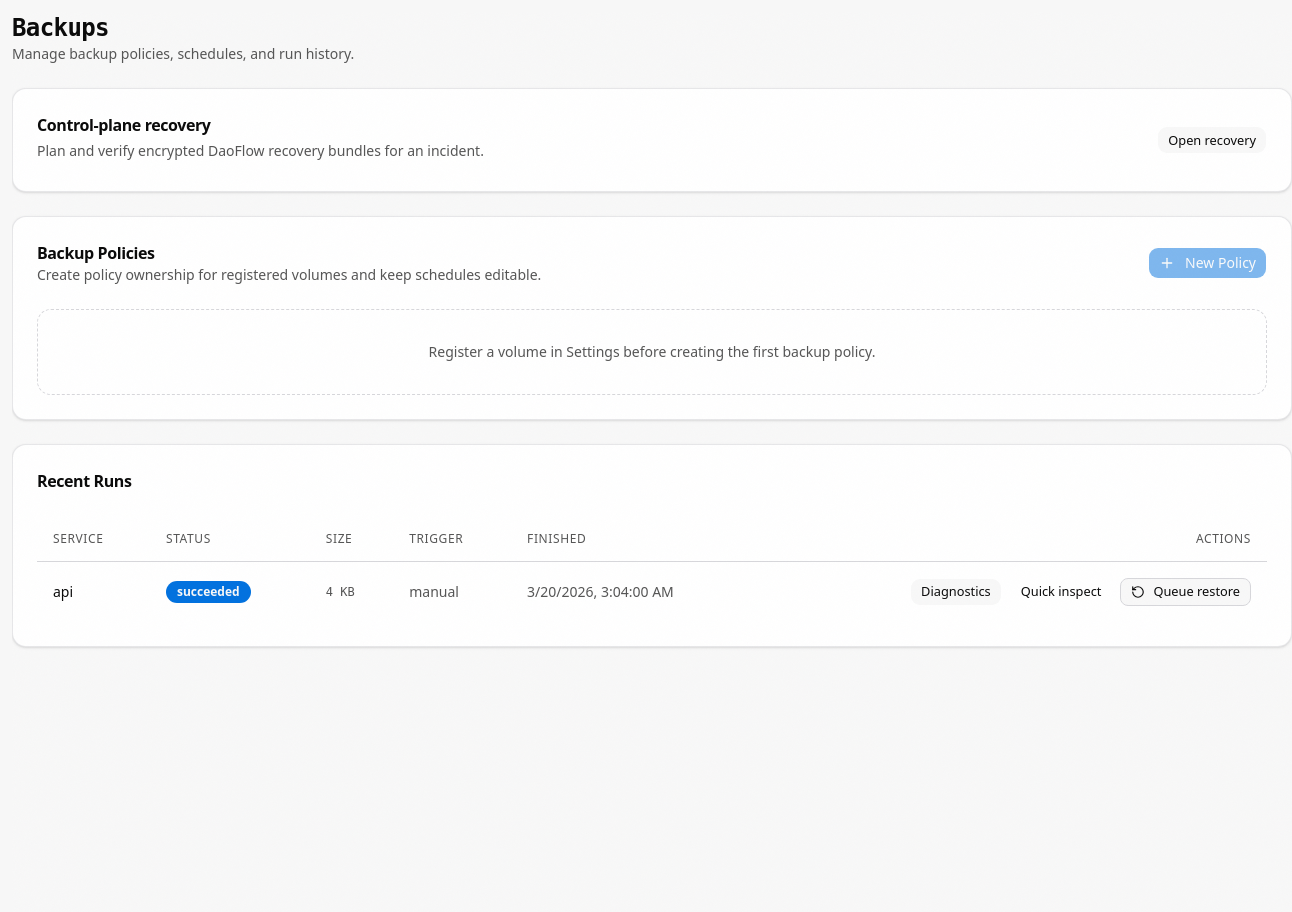
Scenario: BackupsPage › queues restore actions for successful runs with artifacts
Click the button with test id "backup-run-queue-restore-run_succeeded": (1186, 592) left=1120, top=578, right=1251, bottom=606
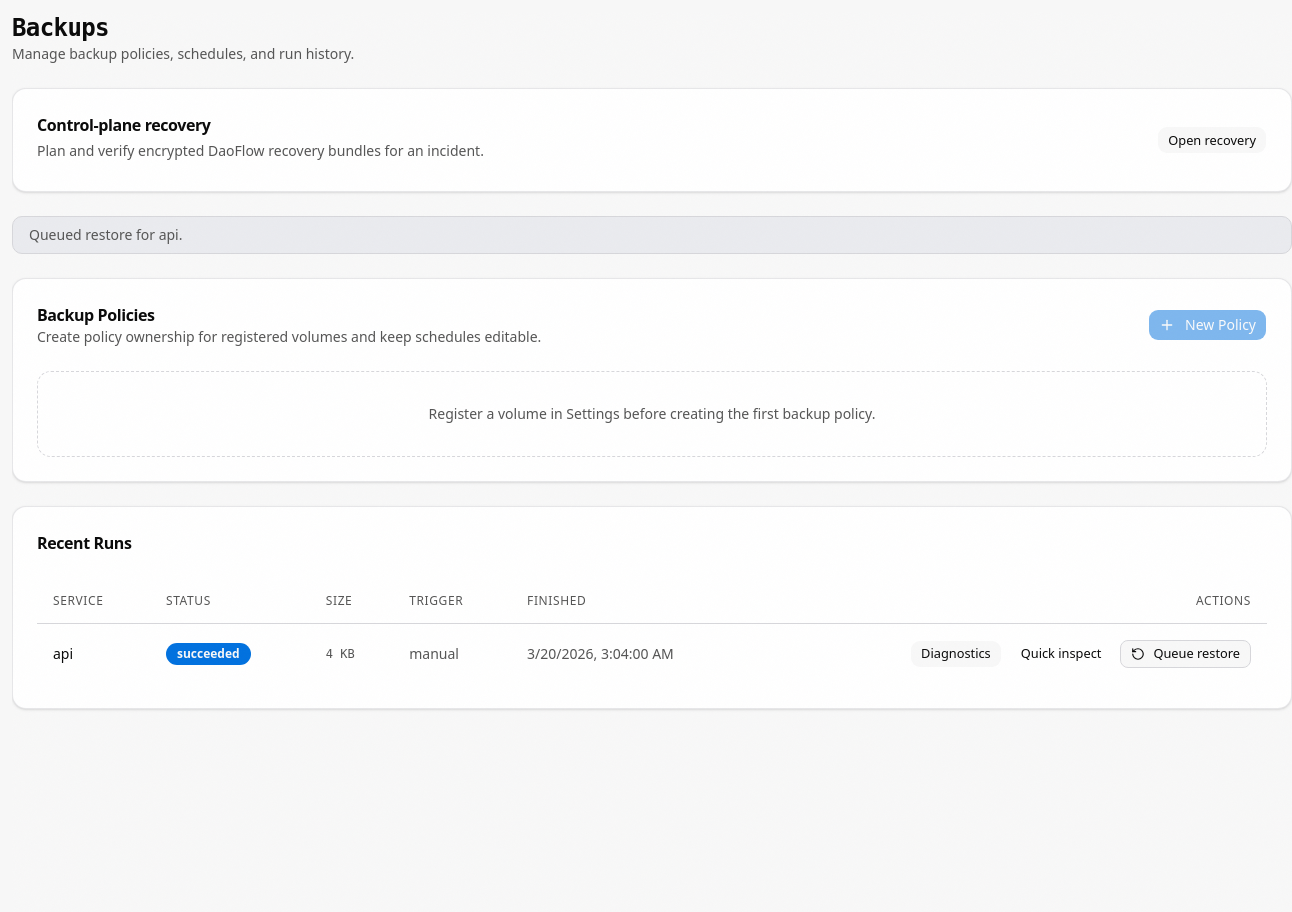
expect the text with test id "backup-restore-feedback" reads "Queued restore for api.": met, box left=29, top=225, right=182, bottom=244
